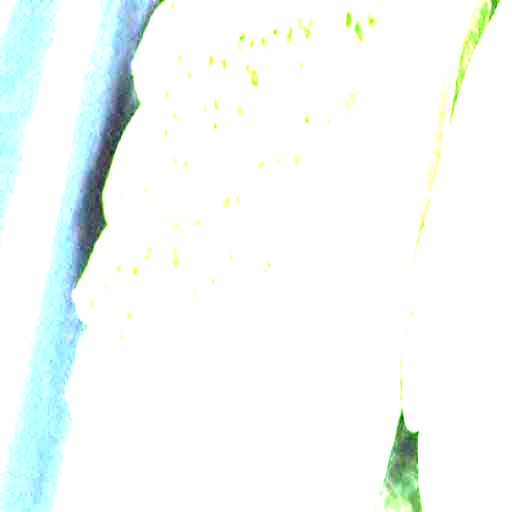Angular Leafspot: (65, 0, 491, 511), (401, 0, 511, 511)
